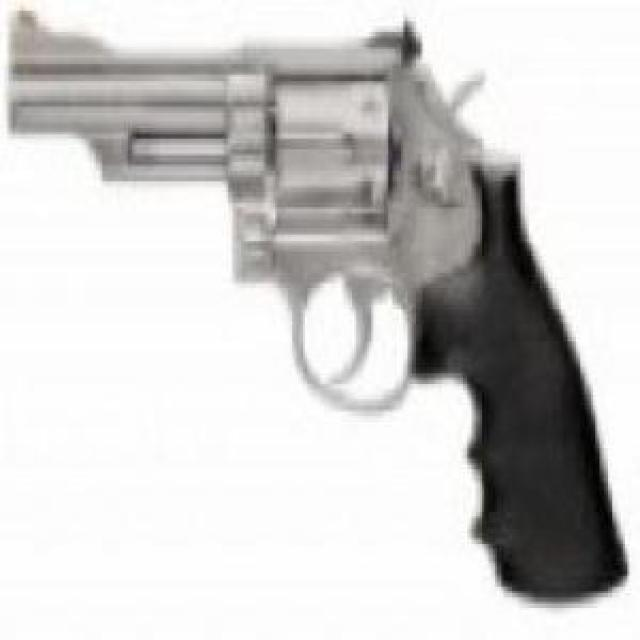pistol: (4, 11, 617, 597)
